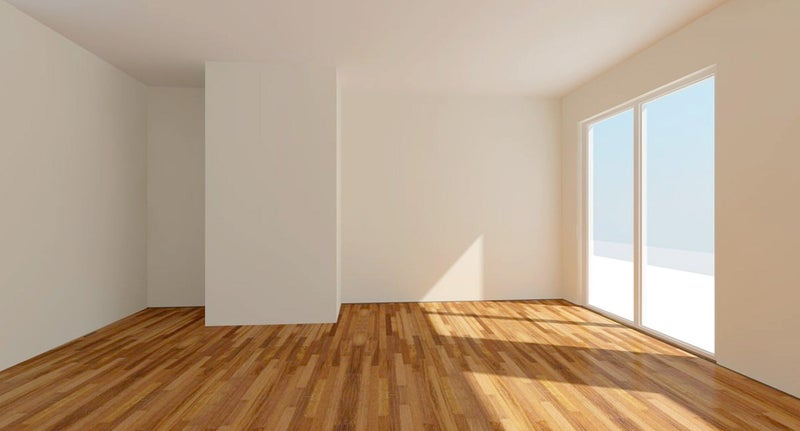door: (583, 64, 716, 361)
wall: (564, 1, 800, 397), (1, 1, 148, 373), (342, 97, 565, 305), (204, 60, 339, 324), (149, 87, 223, 307)
